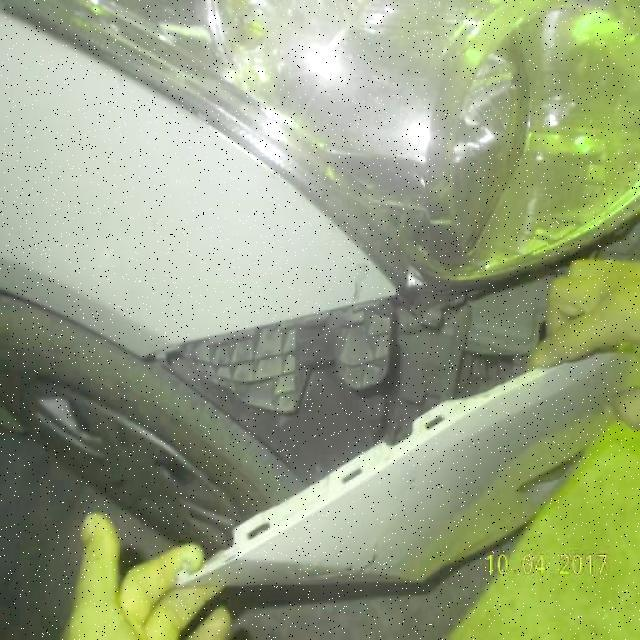car damage: (143, 272, 566, 583)
